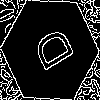D: (25, 25, 75, 78)
